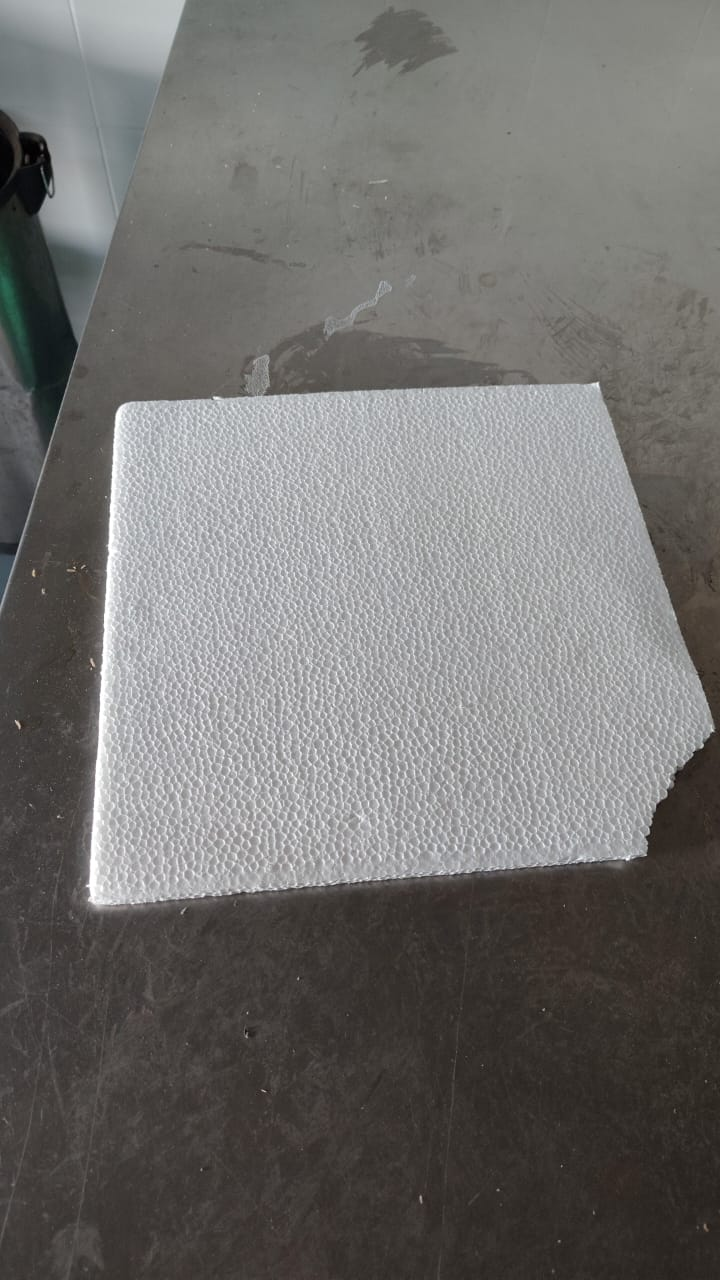Ordinario: (91, 380, 716, 910)
